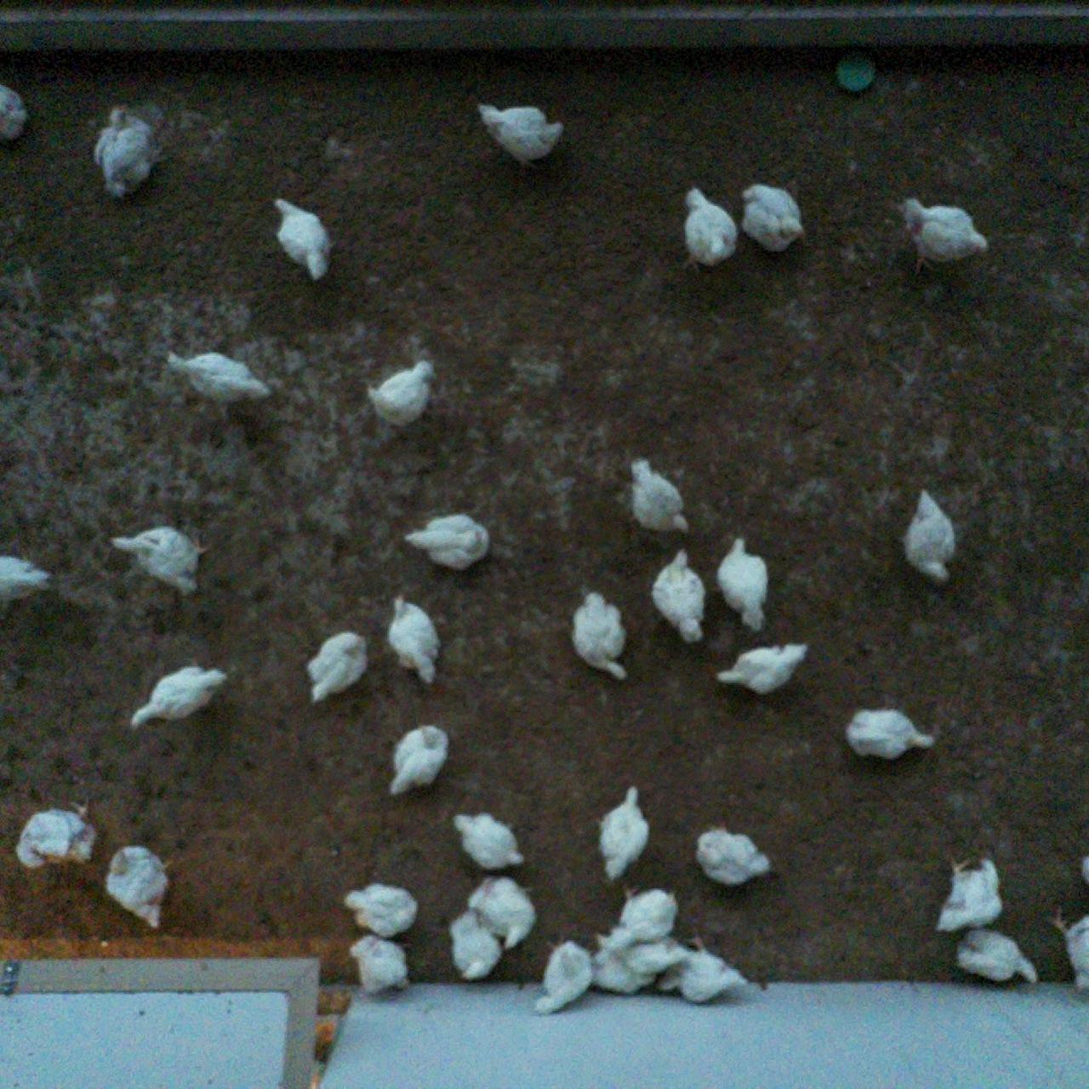chicken: (108, 524, 209, 608), (91, 100, 169, 198), (899, 197, 994, 277), (125, 659, 229, 730), (474, 97, 568, 175), (650, 932, 744, 1006), (161, 348, 274, 409), (105, 840, 177, 932), (900, 483, 961, 591), (624, 453, 696, 542), (463, 874, 541, 956), (841, 696, 936, 763), (403, 508, 496, 575), (268, 196, 338, 284), (567, 589, 632, 683), (673, 185, 741, 274), (933, 851, 1004, 936), (647, 544, 705, 648), (385, 592, 445, 692), (16, 798, 98, 871), (712, 534, 772, 633), (594, 882, 679, 951), (737, 181, 812, 257), (713, 640, 811, 697), (529, 937, 595, 1019), (598, 782, 652, 882), (694, 822, 774, 889), (365, 359, 440, 429), (306, 627, 375, 703), (956, 926, 1040, 988), (339, 878, 422, 939), (447, 810, 526, 873), (347, 928, 416, 1000), (389, 719, 449, 797), (448, 909, 506, 984), (581, 947, 663, 998), (1052, 905, 1089, 993), (617, 934, 688, 979), (0, 553, 57, 609), (0, 81, 33, 145)
